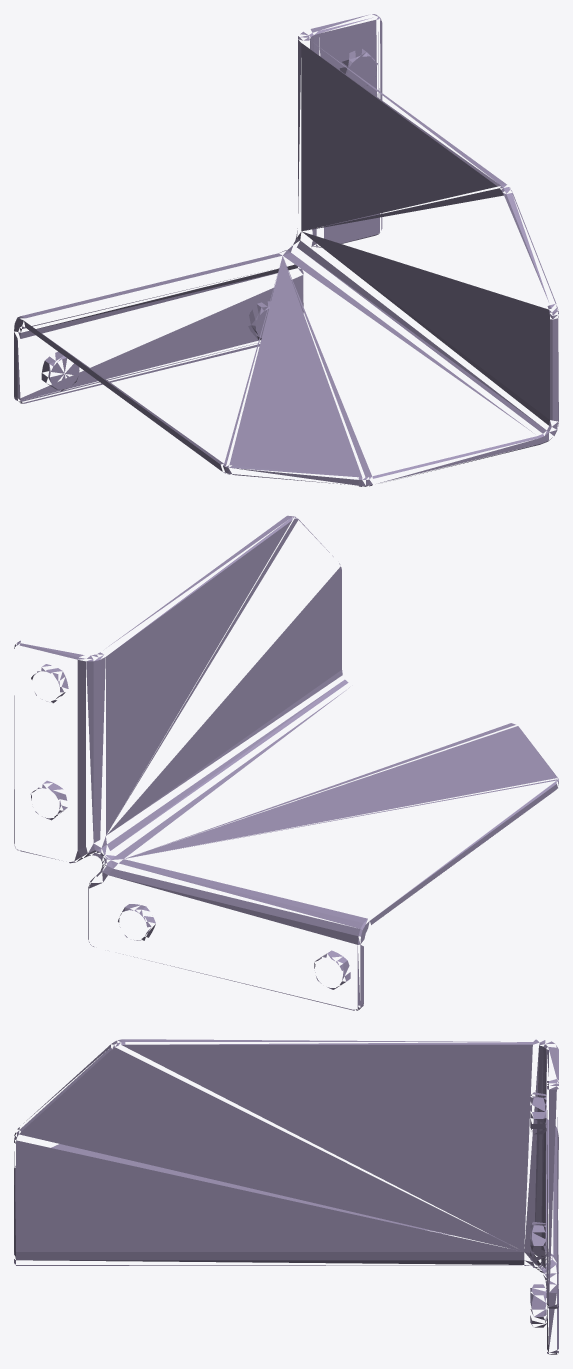
The model's file is rail_corner_a01.glb.
3 renders of one model, top to bottom at view 1: azimuth 30°, elevation 25°; view 2: azimuth 150°, elevation 25°; view 3: azimuth 270°, elevation 25°, orthographic. The views are drawn at different scales.
Parts seen in each view (by area): view 1: geometry_0; view 2: geometry_0; view 3: geometry_0.
Boxes of the visible parts, box(x1,y1,x2,y2) form: geometry_0: box(14, 14, 558, 486); geometry_0: box(14, 515, 558, 1010); geometry_0: box(14, 1039, 558, 1354).
Bounding box in the file's own units: 0.3878 × 0.3062 × 0.48.
